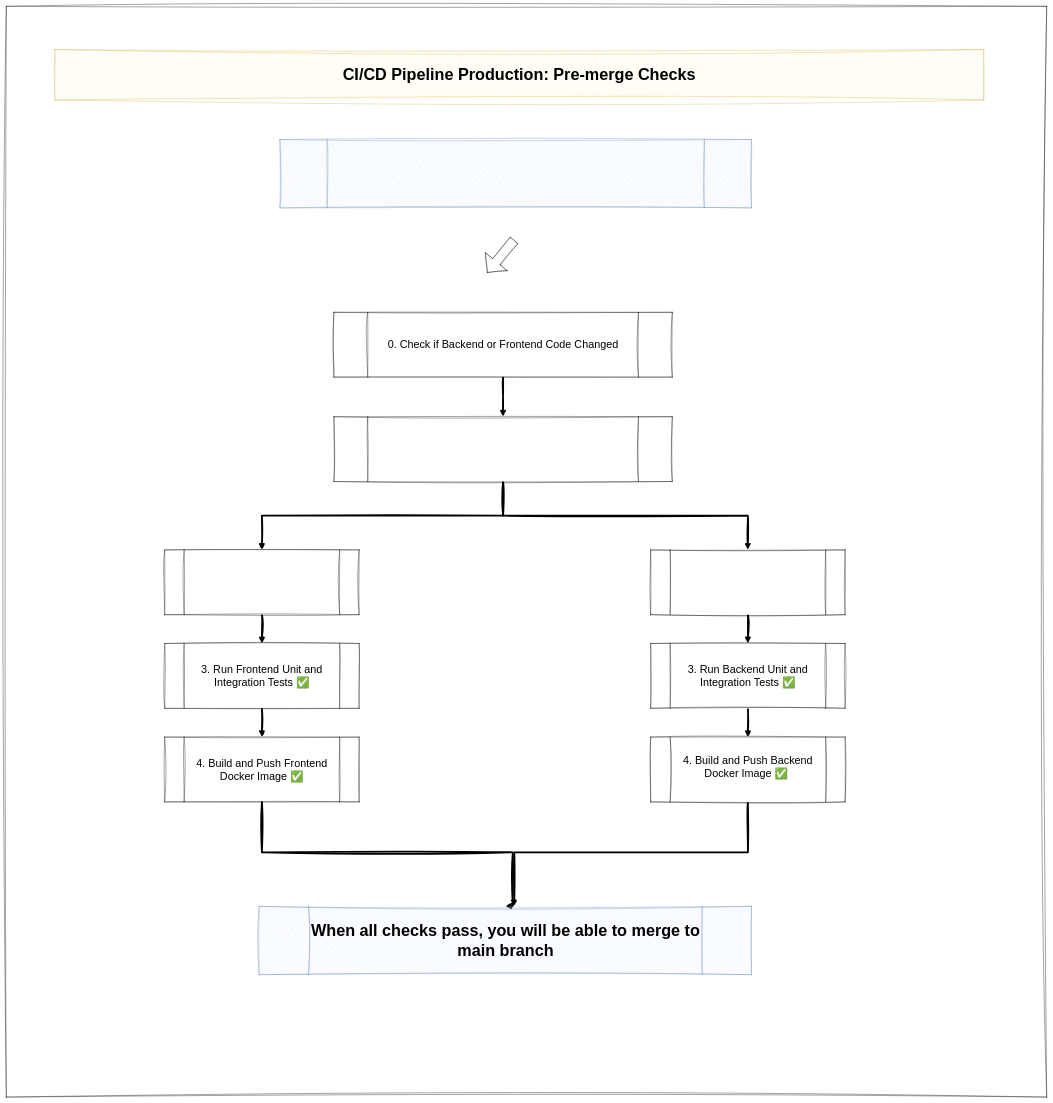
Image size: 1053x1103. Some labels were removed from this diagram. The shapes that lost their labels are listed below. From the top down, each one's box as (x1, y1, x2, y2) in pixels, then its label:
(280, 139, 752, 208): Make PR to merge with main branch
(334, 416, 672, 482): 1. Set Version
(164, 550, 359, 615): 2. Lint Frontend Code ✅
(650, 550, 845, 615): 2. Lint Backend Code ✅
